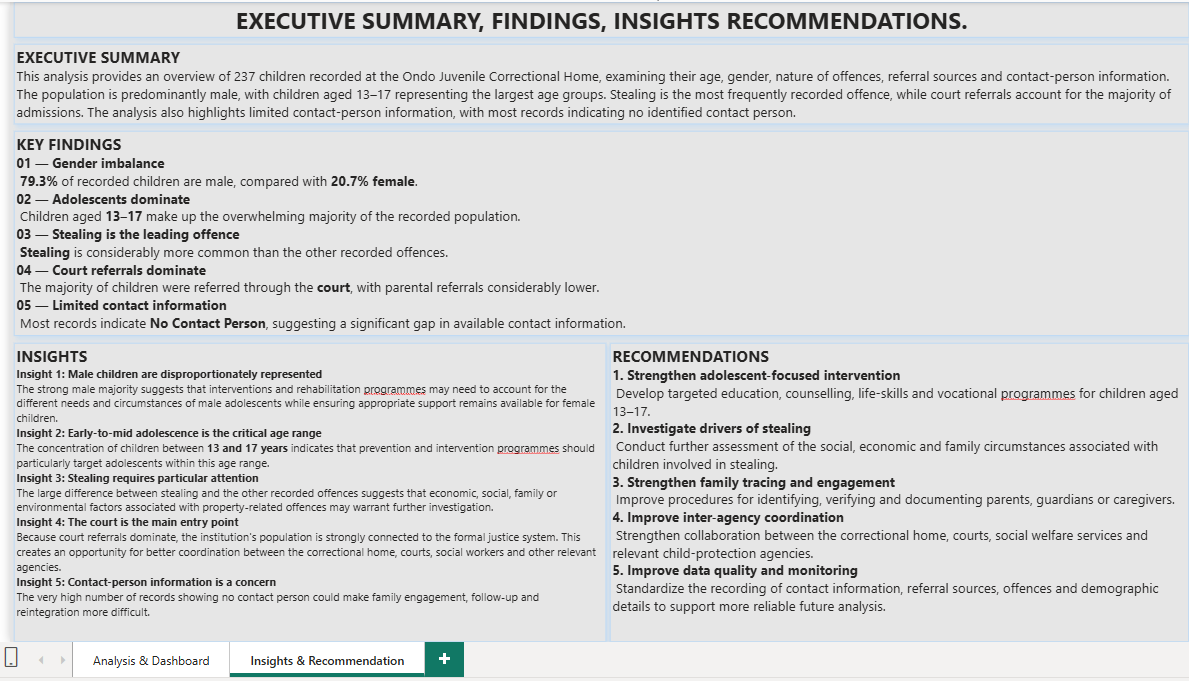

This screenshot's page, from the dashboard's own definition file:
{"tool":"powerbi","page":{"name":"Insights & Recommendation","canvas":[2856,1550],"ordinal":1},"visuals":[{"type":"textbox","box":[9.8,0,2846.2,85.9],"z":0},{"type":"textbox","box":[9.7,101.7,2845.7,193.8],"z":1},{"type":"textbox","box":[9.7,825.9,1433.8,724.1],"z":2},{"type":"textbox","box":[1453.1,825.9,1402.3,724.1],"z":3},{"type":"textbox","box":[9.7,312.4,2845.7,496.5],"z":4}]}

Visuals, with their boxes on the page's 2856x1550 design canvas (x1, y1, x2, y2). These are canvas units, not pixel positions in the 1189x681 screenshot, which may show the page scaled, cropped or inside an application window:
textbox: [x1=10, y1=0, x2=2856, y2=86]
textbox: [x1=10, y1=102, x2=2855, y2=296]
textbox: [x1=10, y1=826, x2=1444, y2=1550]
textbox: [x1=1453, y1=826, x2=2855, y2=1550]
textbox: [x1=10, y1=312, x2=2855, y2=809]
